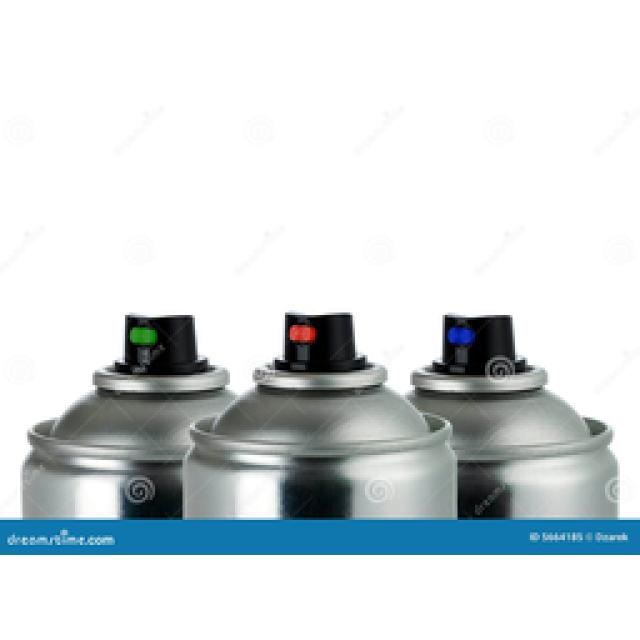B3: (186, 310, 452, 518), (406, 312, 617, 517), (43, 306, 199, 523)
